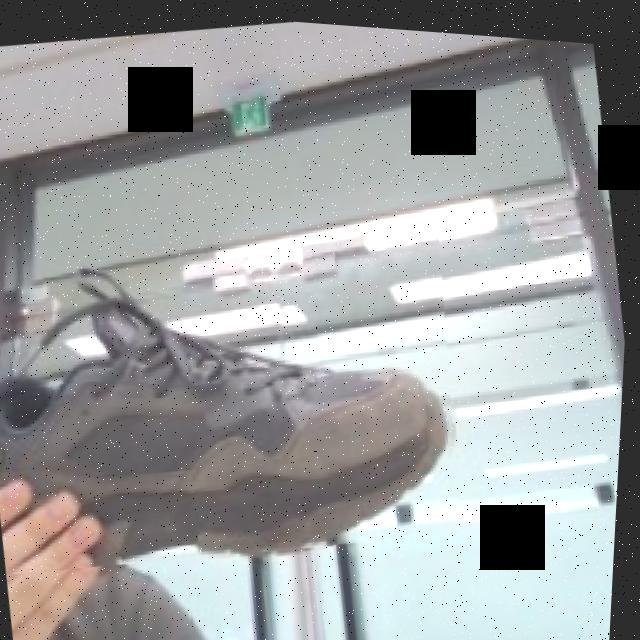shoe: (0, 200, 488, 601)
